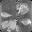people: (16, 4, 29, 16), (8, 19, 17, 31), (20, 19, 32, 26), (1, 20, 10, 29), (1, 11, 12, 18)
